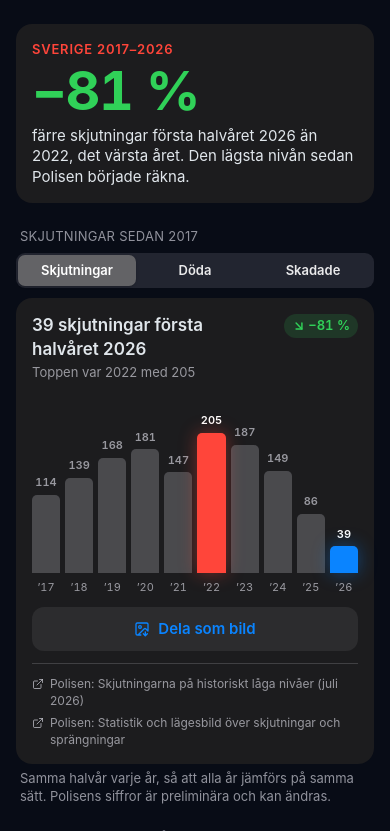
Test: Statistik → Över tid › switches the long series to the dead and the injured
This screenshot has width=390, height=831.
Click the tab "Döda" at (195, 271), box [136,255,254,286]
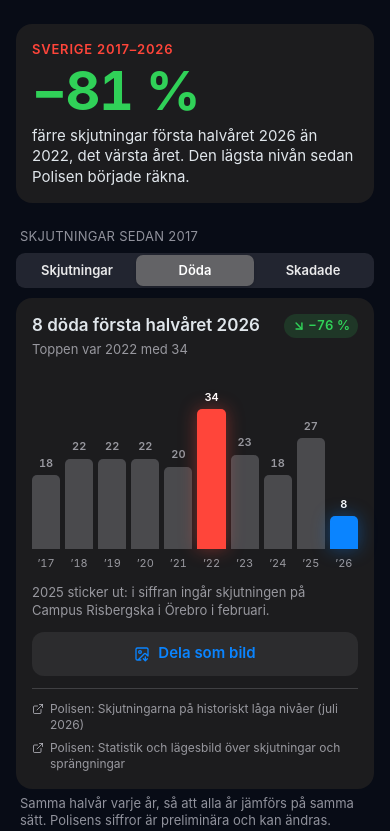
Now the text "8 döda första halvåret 2026" is shown, box [32,314,260,338]
Now the text "Campus Risbergska" is shown, box [32,584,305,618]
Click the tab "Skadade" at (313, 271), box [254,255,372,286]
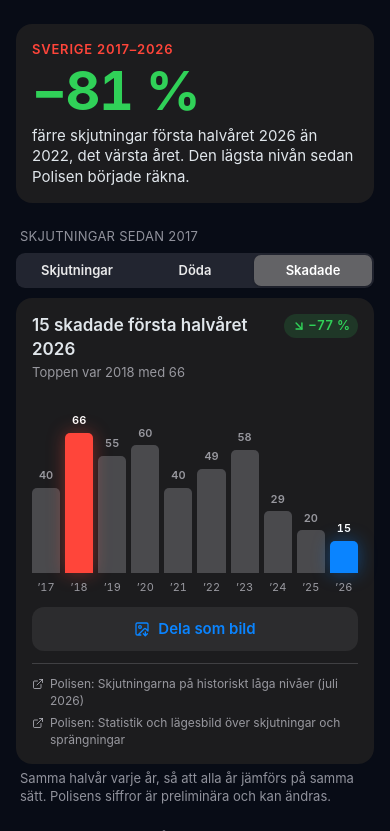
Now the text "Toppen var 2018 med 66" is shown, box [32,364,185,380]
